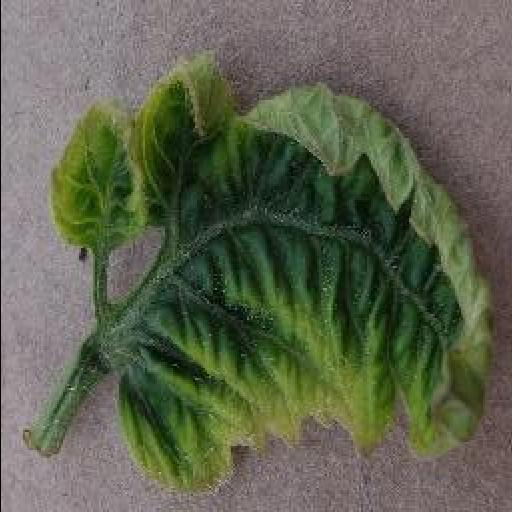disease_tomato: (50, 55, 492, 496)
